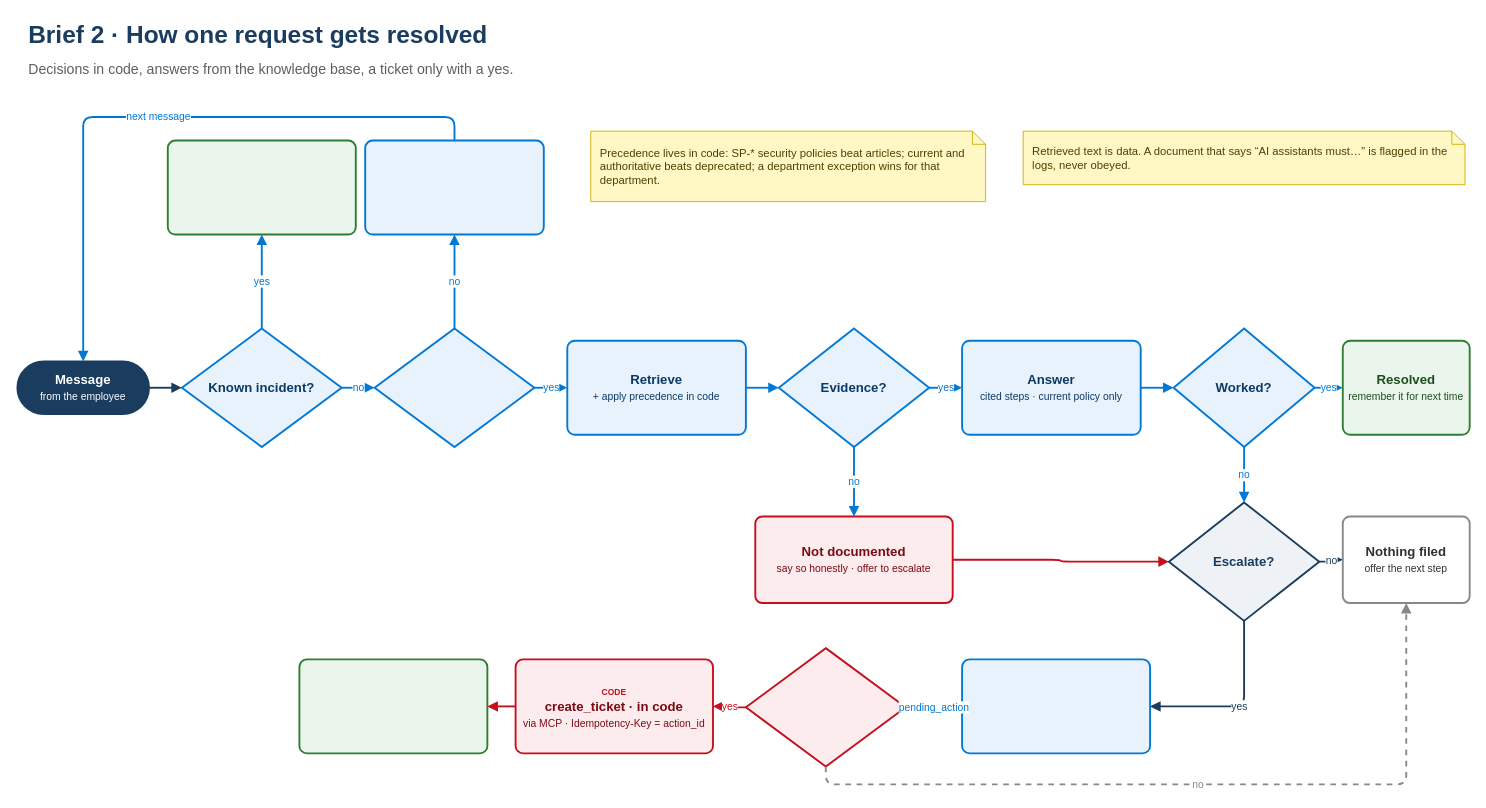
Image size: 1486x808. Some labels were removed from this diagram. Each missing label, with the centre of its shape:
"Approved?" goes at [825,707].
"Ask one question error code · department · OS · version" goes at [454,187].
"Draft the ticket schema-valid · priority by the KB's rules · kb_refs" goes at [1056,706].
"Enough context?" goes at [454,387].
"Point to the incident add them to INC-… · no duplicate ticket" goes at [261,187].
"Show the result IT- ID from the API · or an honest failure" goes at [393,706].
